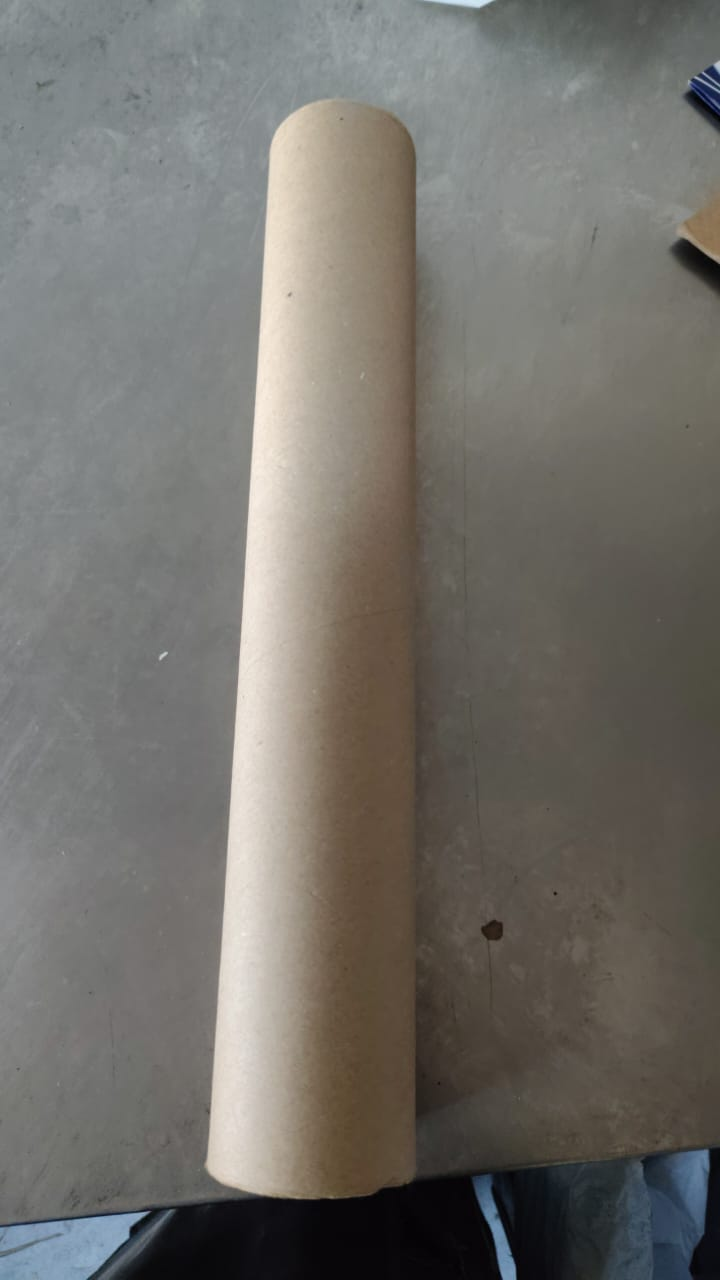Carton: (207, 96, 414, 1200)
